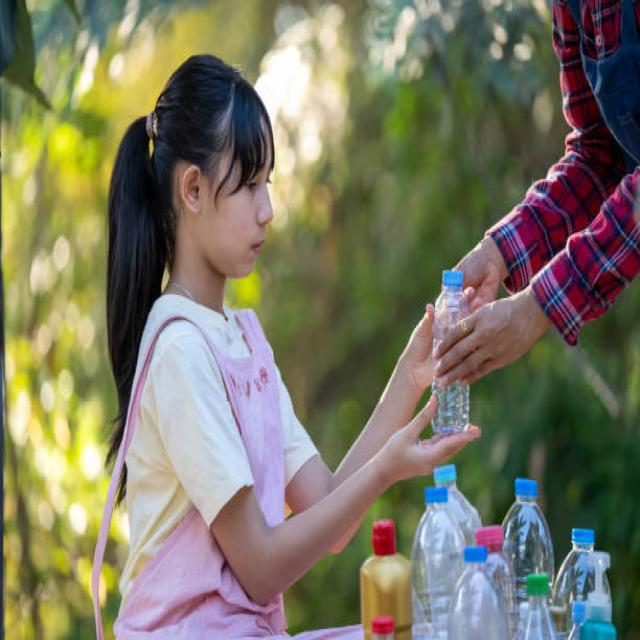plastic: (426, 508, 584, 628)
